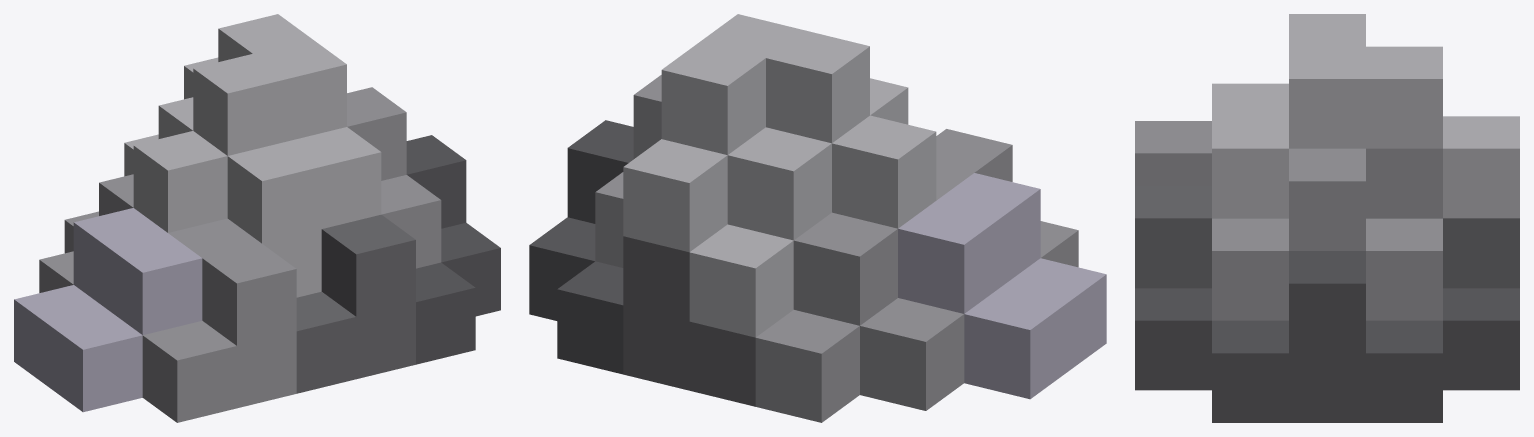
File: Cailloux1.obj
3 views of the same model, side by side, from view 1: azimuth 30°, elevation 25°; view 2: azimuth 150°, elevation 25°; view 3: azimuth 270°, elevation 25° (orthographic). The views are drawn at different scales.
Size of the model in its own units: 7 by 4 by 5.
1 material, 1 textured.
